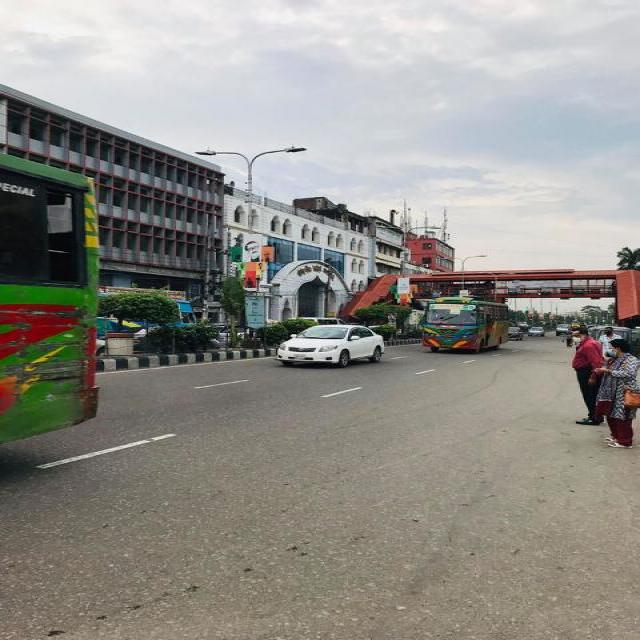vehicle: (1, 146, 104, 455), (419, 297, 511, 358), (272, 323, 386, 371), (528, 327, 546, 338)
